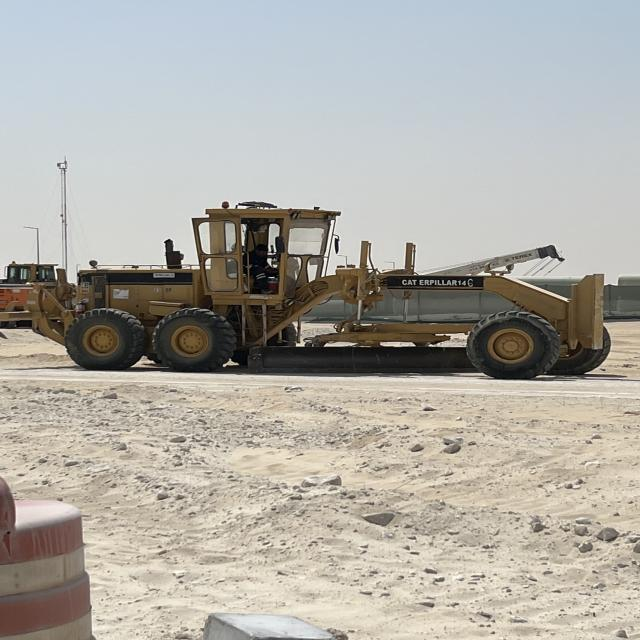buldozerpayloadergrader: (3, 196, 610, 376)
